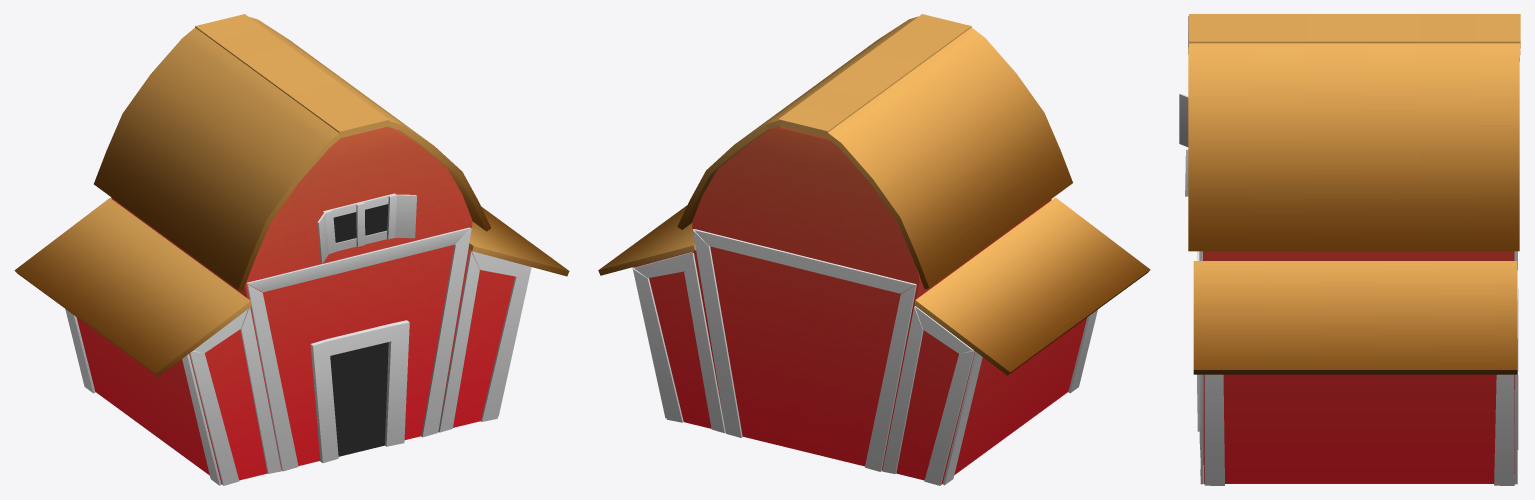
Rendered from Barn.fbx.
3 renders of one model, left to right at view 1: azimuth 30°, elevation 25°; view 2: azimuth 150°, elevation 25°; view 3: azimuth 270°, elevation 25°, orthographic. The views are drawn at different scales.
Visible parts, largest first — view 1: barn_combined; view 2: barn_combined; view 3: barn_combined.
Part boxes in pixels (x1,y1,x2,y2): barn_combined: (14,14,569,485); barn_combined: (598,14,1150,485); barn_combined: (1179,14,1520,485).
Bounding box in the file's own units: 3.61 × 2.76 × 2.24.
